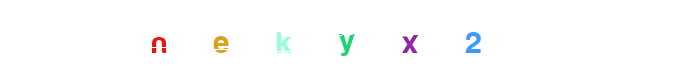2: (433, 0, 513, 80)
E: (278, 0, 358, 80)
K: (300, 0, 380, 80)
N: (152, 0, 232, 80)
X: (370, 0, 450, 80)
Y: (306, 0, 386, 80)
